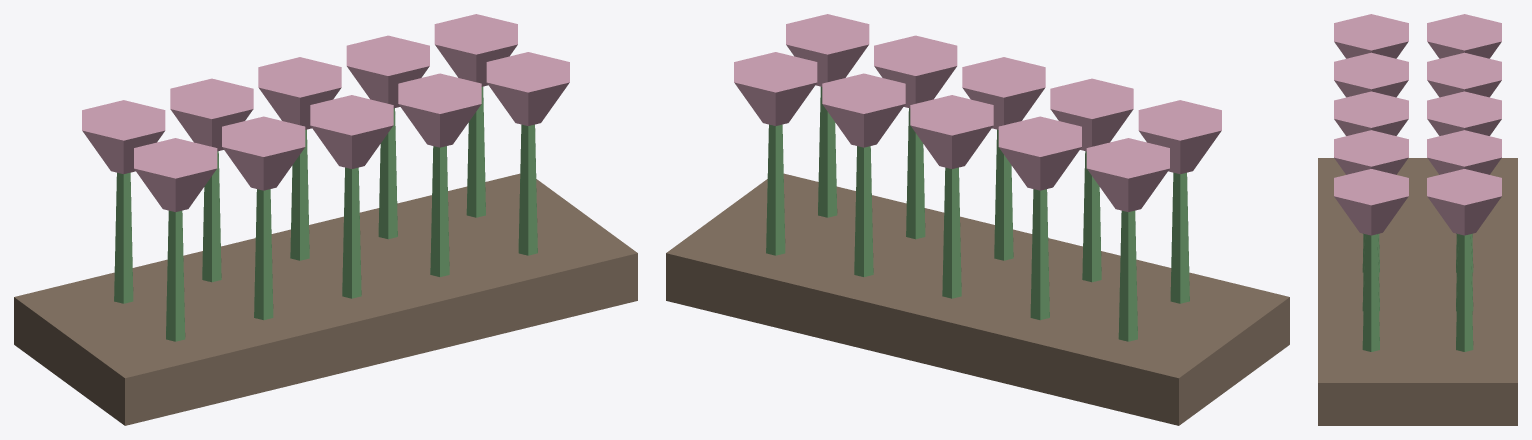
File: flora_50_lilium_longiflorum_luong_hoa_ly_ly_kép_nha_kinh_van_thanh_ha_dong.glb
3 views of the same model, side by side, from view 1: azimuth 30°, elevation 25°; view 2: azimuth 150°, elevation 25°; view 3: azimuth 270°, elevation 25° (orthographic). The views are drawn at different scales.
Parts seen in each view (by area): view 1: flora_50; view 2: flora_50; view 3: flora_50.
Boxes of the visible parts, x1,y1,x2,y2 form: flora_50: [14, 14, 637, 425]; flora_50: [666, 14, 1289, 425]; flora_50: [1318, 14, 1517, 425].
Bounding box in the file's own units: 3.2 × 1.35 × 1.2.
